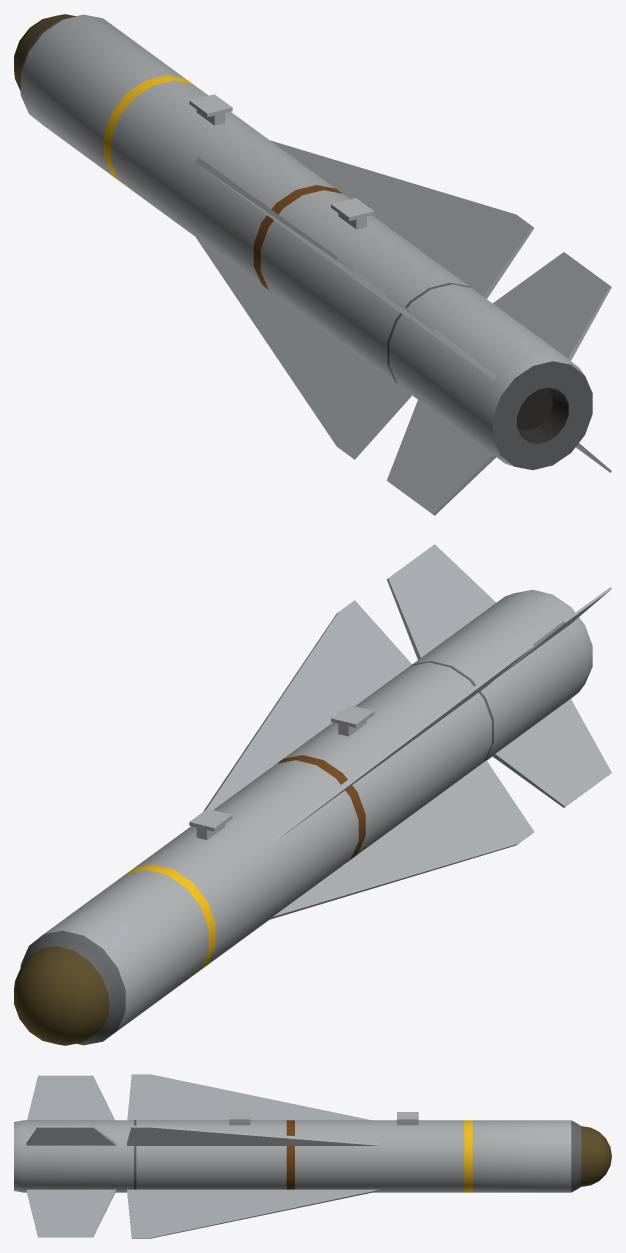
File: agm65.glb
3 views of the same model, one above another, from view 1: azimuth 30°, elevation 25°; view 2: azimuth 150°, elevation 25°; view 3: azimuth 270°, elevation 25° (orthographic). The views are drawn at different scales.
Parts seen in each view (by area): view 1: agm65; view 2: agm65; view 3: agm65.
Boxes of the visible parts, left/top/right/bottom form: agm65: left=14, top=14, right=611, bottom=515; agm65: left=14, top=544, right=611, bottom=1045; agm65: left=14, top=1074, right=611, bottom=1238.
Bounding box in the file's own units: 0.5183 × 0.5183 × 2.49.
